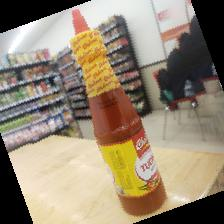Tuong: (67, 7, 169, 217)
